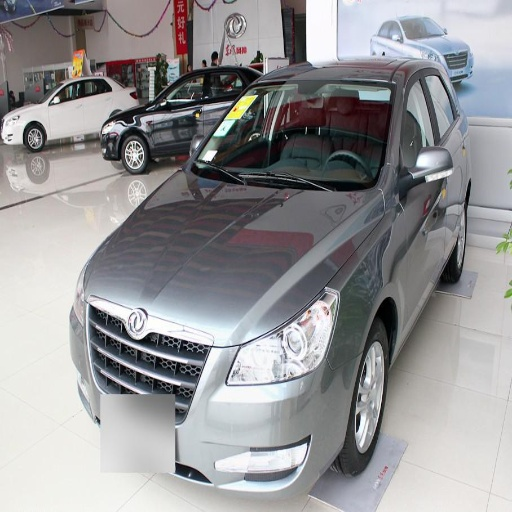front_bumper: (110, 318, 349, 511), (85, 297, 138, 391)
front_glass: (193, 76, 395, 187)
front_left_door: (399, 64, 441, 321)
